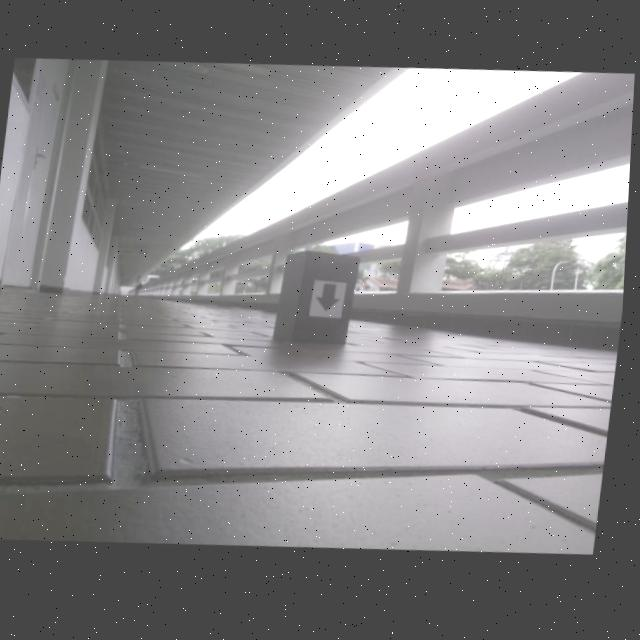DOWN: (318, 286, 345, 316)
